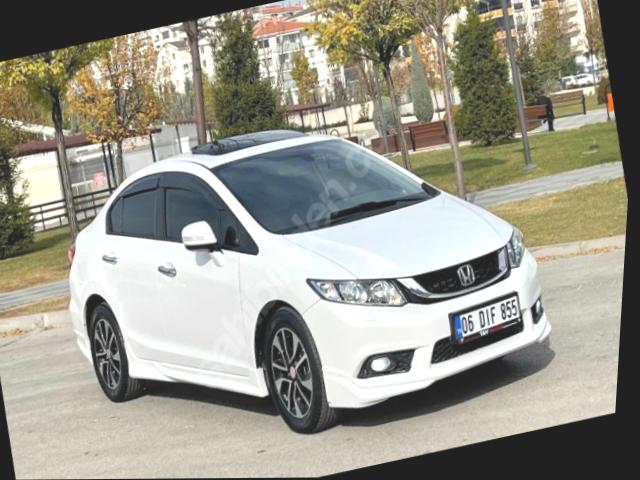plaka: (451, 294, 521, 344)
